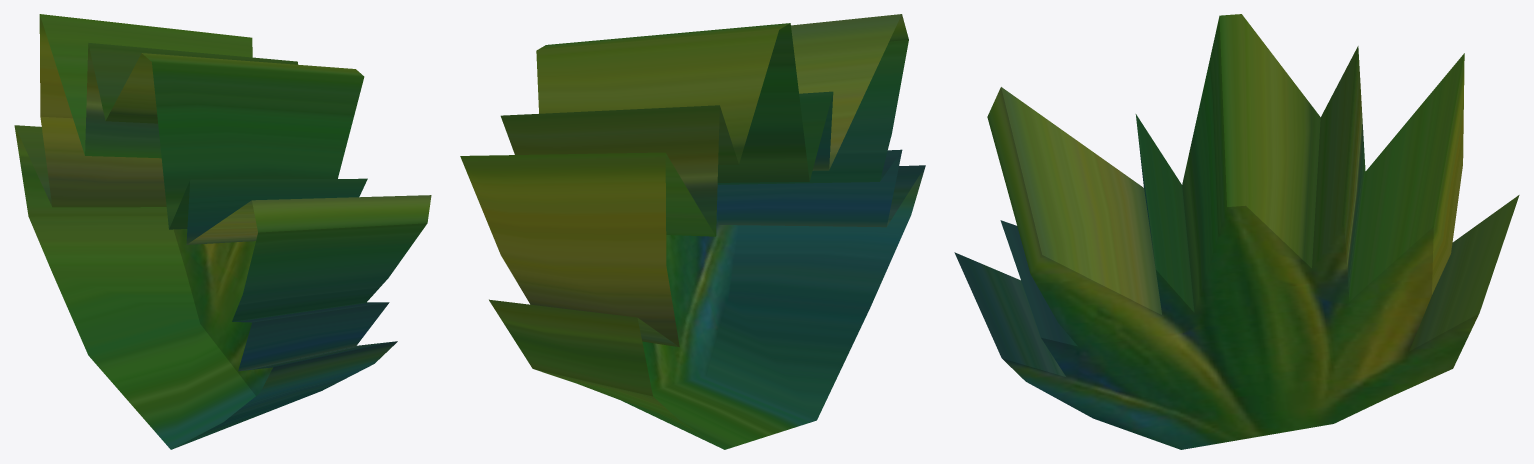
File: object_5.001_lev3.glb
3 views of the same model, side by side, from view 1: azimuth 30°, elevation 25°; view 2: azimuth 150°, elevation 25°; view 3: azimuth 270°, elevation 25° (orthographic). The views are drawn at different scales.
Parts seen in each view (by area): view 1: object_5.001_lev3; view 2: object_5.001_lev3; view 3: object_5.001_lev3.
Boxes of the visible parts, <box> form: object_5.001_lev3: <box>14,14,431,449</box>; object_5.001_lev3: <box>460,14,925,449</box>; object_5.001_lev3: <box>954,14,1519,449</box>.
Size of the model in its own units: 3.96 by 6.48 by 8.14.
1 material, 1 textured.
